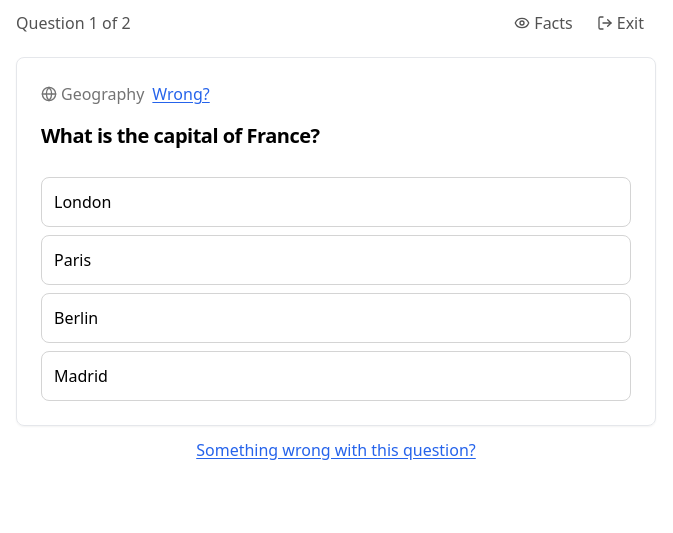
Test case: Play screen › clicking Next records play and advances
Click the button "Paris". click: click(73, 260)
box: [41, 234, 631, 284]
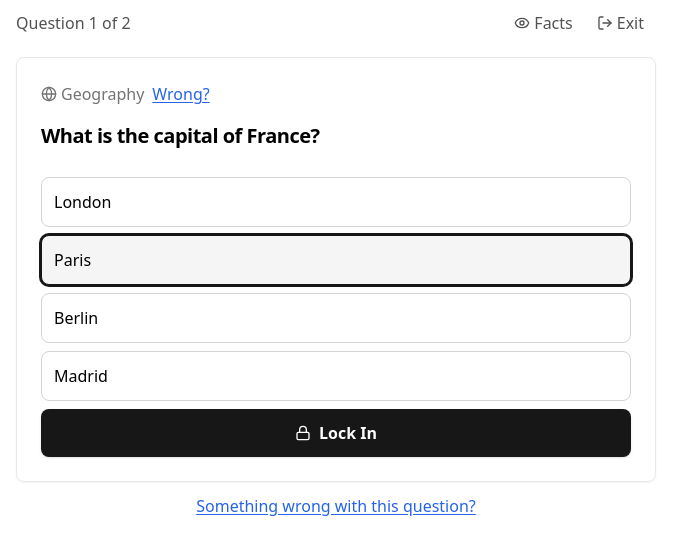
Click the button "Lock In". click: click(336, 432)
box: [41, 408, 631, 456]
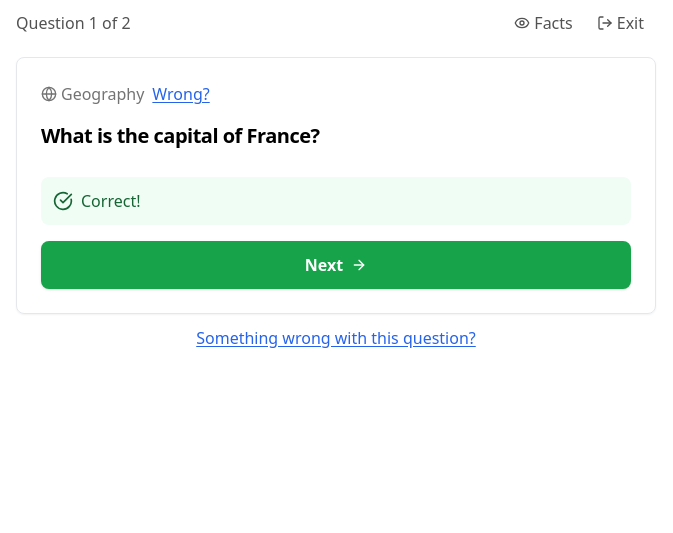
Expected: the button "Next" is shown
Click the button "Next". click: click(336, 264)
box: [41, 240, 631, 288]
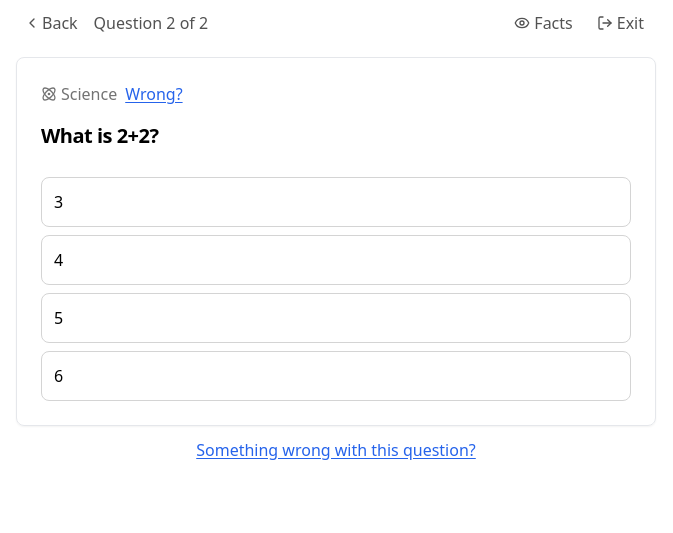
Expected: the heading "What is 2+2?" is shown, [41, 122, 158, 149]
